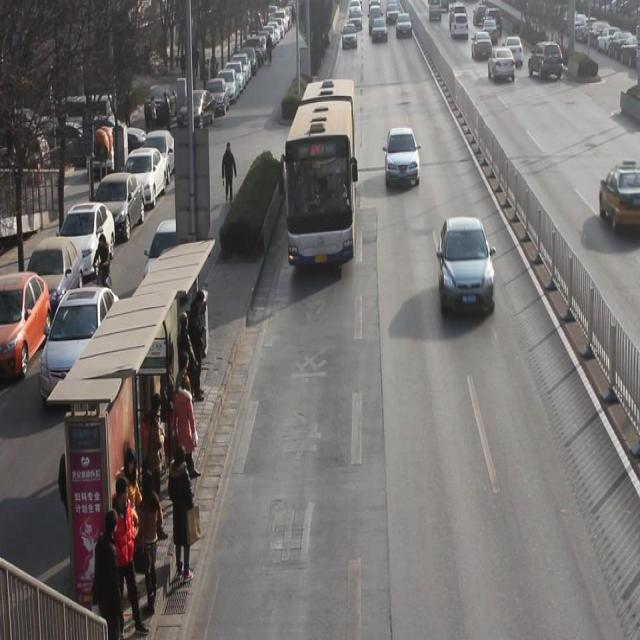car: (438, 219, 496, 317), (599, 161, 640, 236), (386, 127, 422, 189), (528, 42, 564, 81), (487, 48, 516, 84), (505, 36, 524, 68), (471, 33, 492, 61)
van: (285, 81, 355, 269)
